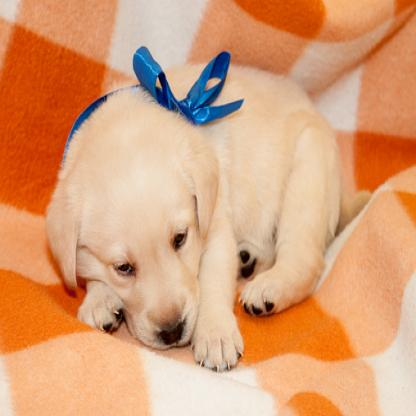dog: (44, 60, 370, 381)
